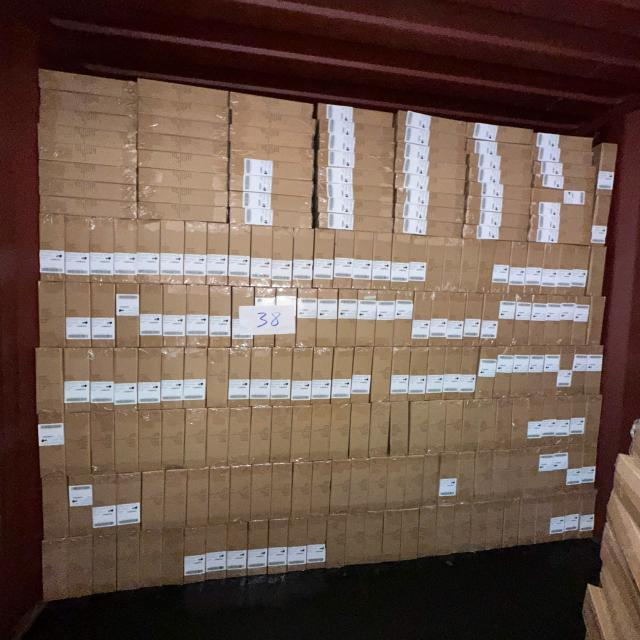Carton: (37, 68, 139, 102), (137, 77, 230, 109), (36, 123, 138, 151), (40, 88, 137, 117), (38, 140, 138, 168), (38, 107, 138, 134), (38, 159, 138, 186), (136, 96, 230, 124), (38, 194, 138, 220), (138, 114, 229, 142), (229, 91, 319, 119), (137, 131, 229, 158), (38, 178, 138, 202), (136, 149, 228, 175), (226, 203, 312, 230), (231, 109, 316, 136), (228, 172, 314, 198), (138, 184, 230, 208), (230, 124, 314, 150), (138, 167, 228, 191), (317, 102, 394, 129), (228, 158, 314, 182), (318, 132, 396, 158), (37, 412, 67, 479), (396, 110, 467, 138), (138, 202, 228, 224), (39, 284, 68, 352), (228, 142, 316, 164), (229, 190, 313, 213), (40, 216, 68, 284), (40, 477, 70, 540), (37, 348, 66, 412), (396, 126, 467, 152), (319, 118, 395, 142), (65, 215, 91, 284), (317, 149, 395, 172), (62, 350, 90, 414), (66, 534, 93, 600), (90, 216, 116, 284), (42, 535, 68, 603), (316, 166, 395, 188), (65, 284, 92, 348), (395, 172, 467, 196), (160, 220, 186, 286), (316, 182, 394, 204), (316, 212, 394, 234), (63, 414, 91, 475), (91, 531, 117, 596), (115, 473, 143, 533), (398, 142, 468, 166), (135, 220, 161, 284), (92, 284, 117, 350), (91, 350, 116, 416), (317, 197, 394, 218), (118, 281, 142, 348), (395, 158, 468, 180), (115, 412, 140, 476), (232, 288, 258, 349), (394, 188, 466, 210), (68, 472, 92, 538), (115, 530, 140, 593), (138, 527, 163, 590), (139, 283, 163, 348), (112, 220, 138, 280), (113, 349, 138, 411), (91, 414, 116, 476), (395, 202, 465, 224), (164, 286, 188, 350), (186, 224, 210, 288), (92, 472, 116, 536), (138, 349, 162, 412), (187, 285, 211, 348), (161, 410, 186, 470), (466, 122, 534, 144), (183, 349, 207, 411), (255, 286, 279, 348), (207, 223, 230, 287), (230, 225, 253, 289), (138, 410, 162, 471), (182, 526, 206, 587), (466, 138, 532, 160), (209, 287, 232, 350), (184, 410, 208, 470), (250, 350, 274, 410), (140, 472, 164, 532), (162, 347, 185, 409), (250, 226, 273, 288), (207, 349, 230, 410), (165, 470, 188, 531), (393, 218, 463, 238), (467, 167, 533, 188), (162, 526, 185, 586), (207, 410, 230, 469), (188, 469, 211, 528), (386, 458, 411, 512), (251, 409, 274, 467), (275, 290, 298, 348), (205, 526, 228, 584), (487, 243, 512, 296), (313, 229, 335, 289), (272, 349, 294, 409), (272, 228, 294, 288), (316, 289, 338, 349), (230, 348, 252, 408), (329, 404, 352, 461), (227, 522, 250, 579), (530, 187, 599, 206), (468, 180, 530, 201), (466, 195, 531, 215), (465, 209, 530, 229), (474, 240, 498, 294), (532, 132, 593, 153), (468, 152, 532, 172), (533, 160, 597, 180), (230, 408, 252, 466), (355, 290, 377, 348), (375, 290, 397, 348), (462, 223, 529, 242), (476, 346, 500, 399), (371, 347, 394, 402), (295, 287, 316, 347), (337, 287, 358, 347), (292, 228, 313, 288), (271, 465, 293, 522), (208, 468, 230, 525), (350, 347, 372, 404), (351, 232, 373, 289), (311, 350, 333, 407), (290, 405, 312, 462), (272, 407, 294, 464), (331, 462, 354, 516), (532, 146, 594, 166), (531, 200, 593, 220), (231, 468, 253, 524), (252, 466, 274, 522), (268, 522, 290, 578), (332, 348, 354, 404), (407, 235, 429, 291), (364, 510, 386, 566), (344, 511, 366, 567), (479, 294, 502, 347), (334, 233, 355, 291), (534, 173, 598, 192), (349, 404, 371, 459), (370, 403, 392, 458), (461, 294, 483, 349), (457, 346, 479, 401), (437, 451, 459, 506), (313, 405, 334, 462), (512, 294, 535, 346), (539, 243, 562, 295), (246, 522, 268, 576), (459, 240, 481, 294), (306, 518, 328, 572), (325, 515, 347, 569), (366, 460, 388, 514), (403, 455, 425, 509), (530, 214, 592, 233), (409, 401, 430, 457), (446, 293, 467, 349), (424, 236, 445, 292), (495, 294, 517, 347), (492, 346, 514, 399), (508, 242, 530, 295), (475, 398, 497, 451), (291, 348, 312, 403), (287, 521, 308, 576), (528, 228, 592, 246), (524, 243, 546, 295), (527, 294, 549, 346), (595, 143, 617, 195), (542, 294, 564, 346), (540, 345, 562, 397), (395, 290, 415, 347), (293, 464, 314, 518), (408, 347, 429, 401), (311, 463, 332, 517), (424, 347, 445, 401), (442, 240, 463, 294), (440, 348, 461, 402), (399, 507, 420, 561), (590, 195, 612, 246), (554, 244, 576, 295), (389, 402, 409, 458), (390, 234, 410, 290), (372, 236, 392, 292), (428, 400, 448, 456), (412, 292, 432, 348), (472, 450, 493, 503), (382, 510, 403, 563), (584, 246, 606, 296), (525, 345, 546, 397), (509, 397, 530, 449), (455, 452, 476, 504), (390, 347, 410, 401), (511, 346, 531, 400), (350, 460, 370, 514), (461, 400, 481, 454), (555, 347, 577, 396), (556, 295, 577, 346), (490, 449, 511, 500), (469, 500, 489, 553), (569, 346, 590, 396), (446, 400, 465, 455), (429, 293, 448, 348), (500, 497, 520, 549), (568, 394, 588, 445), (452, 503, 472, 554), (418, 506, 437, 559), (572, 296, 592, 346), (586, 296, 606, 346), (584, 345, 604, 395), (518, 496, 538, 546), (561, 491, 581, 541), (436, 504, 455, 556), (577, 488, 596, 540), (583, 394, 602, 445), (494, 398, 512, 451), (506, 447, 524, 500), (422, 456, 441, 506), (572, 246, 591, 295), (534, 494, 552, 545), (548, 492, 566, 543), (526, 396, 543, 449), (521, 446, 539, 496), (486, 500, 504, 550), (555, 395, 572, 446), (536, 446, 553, 496), (566, 443, 582, 493), (581, 442, 597, 490), (541, 396, 556, 447), (552, 444, 567, 494)
